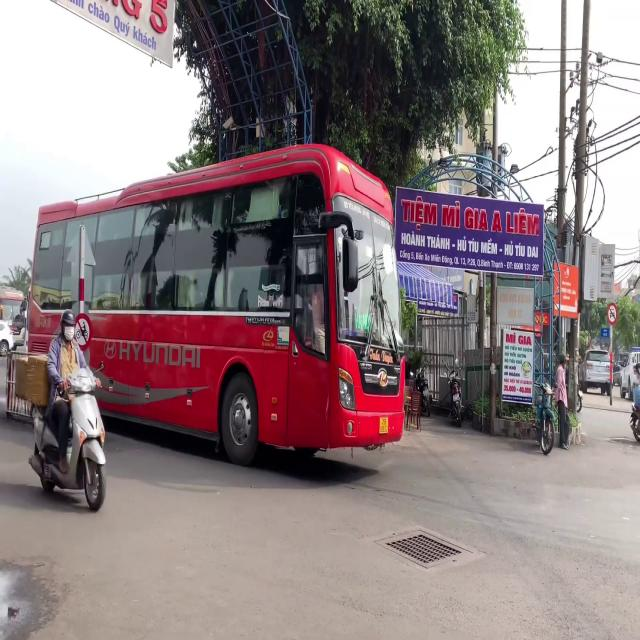bien_vang: (380, 418, 388, 433)
